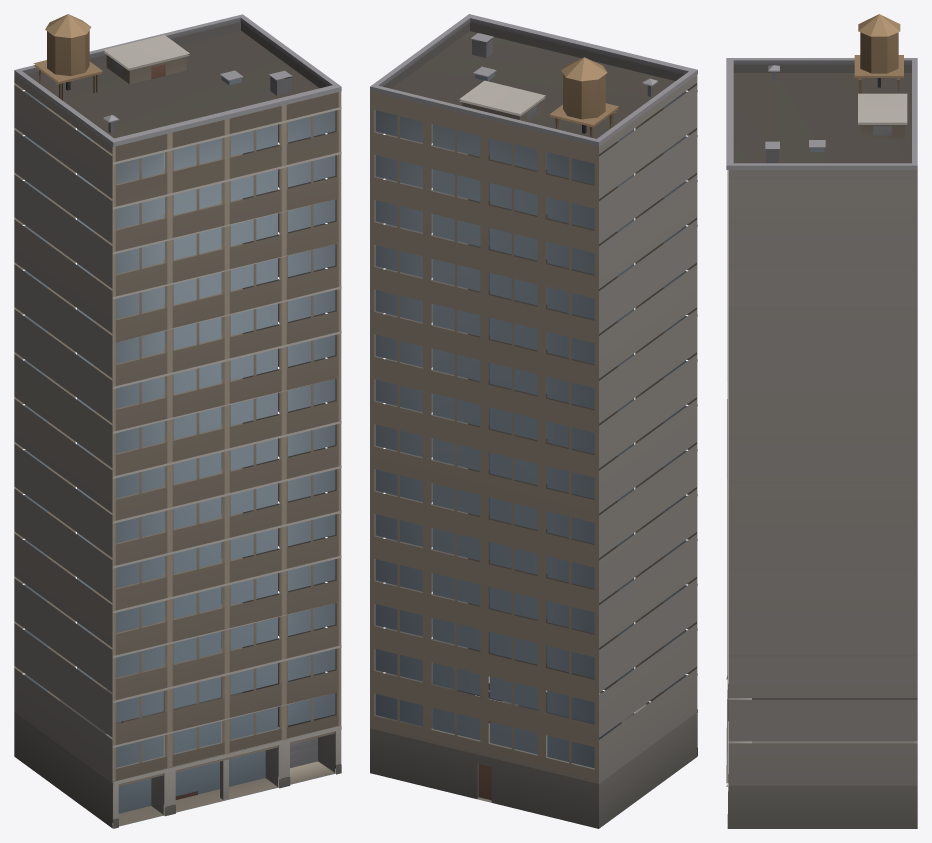
The model's file is slab.lod.glb.
3 views of the same model, side by side, from view 1: azimuth 30°, elevation 25°; view 2: azimuth 150°, elevation 25°; view 3: azimuth 270°, elevation 25° (orthographic). The views are drawn at different scales.
Parts seen in each view (by area): view 1: slab.001; view 2: slab.001; view 3: slab.001.
Part boxes in pixels (x1,y1,x2,y2): slab.001: [14, 14, 341, 828]; slab.001: [370, 14, 697, 828]; slab.001: [726, 14, 917, 828].
Bounding box in the file's own units: 16 × 50.06 × 12.
